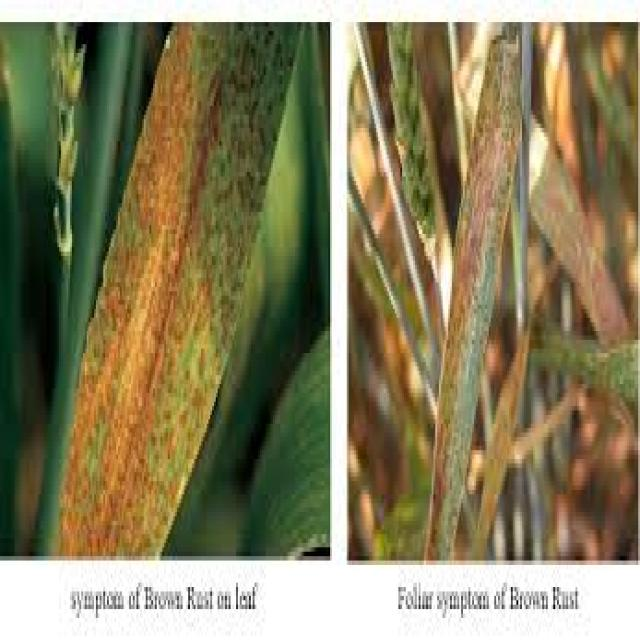leaf rust: (57, 22, 277, 556), (421, 39, 516, 560)
